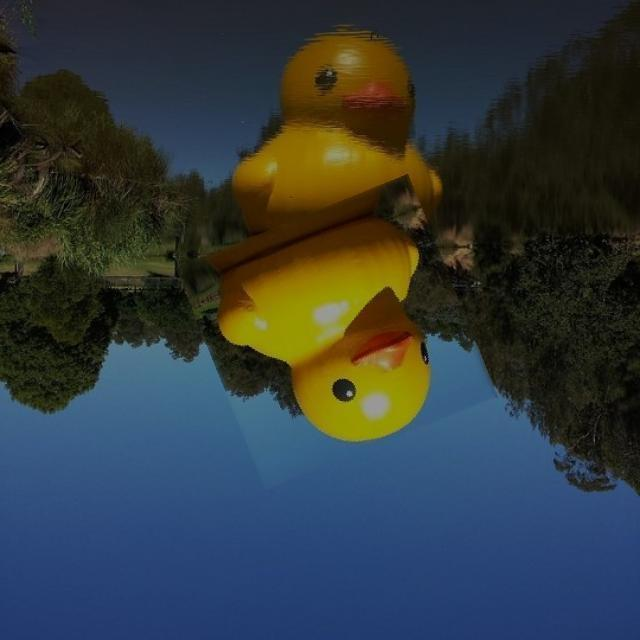rubber-duck: (217, 216, 428, 439)
